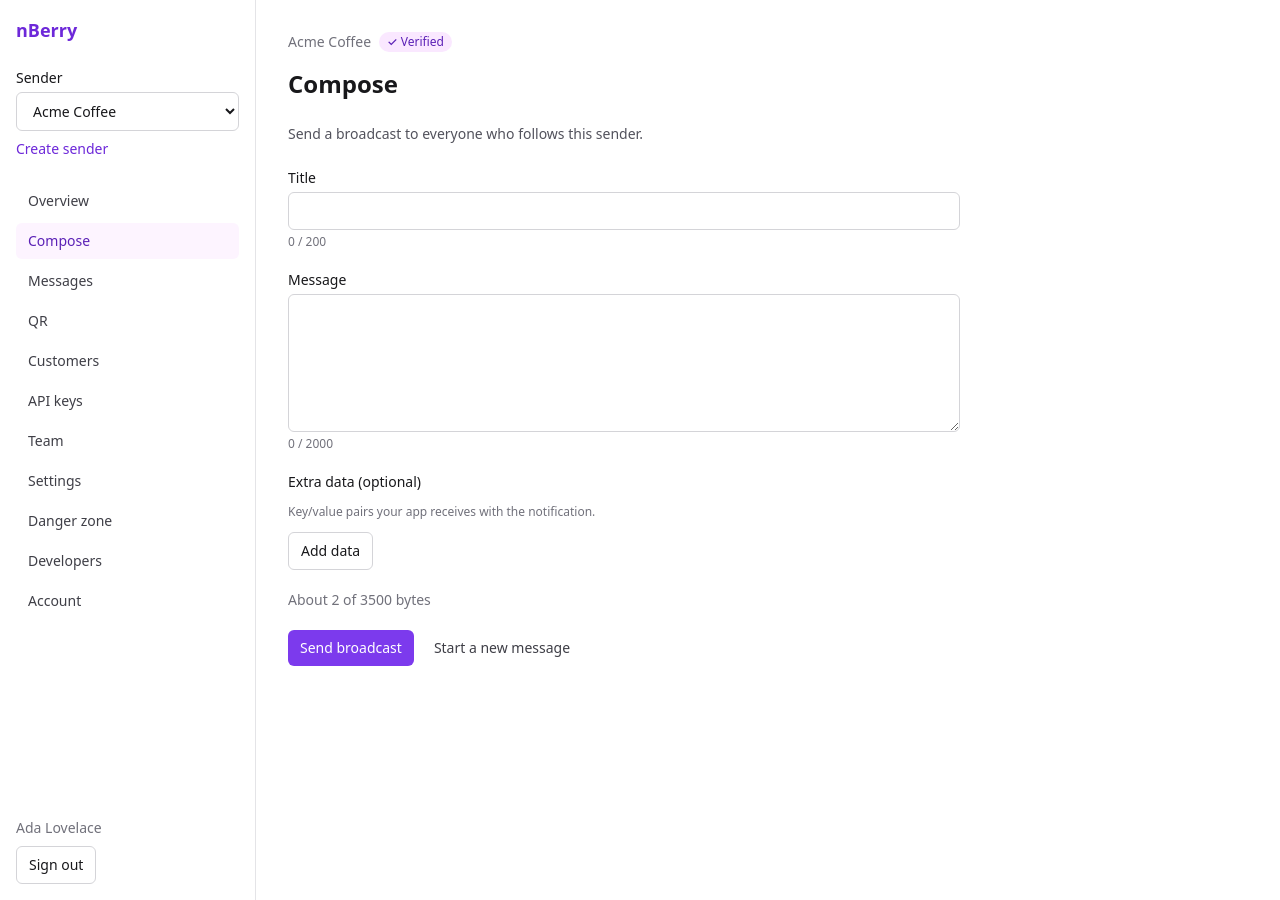
compose sending › double-click Send posts once while pending
Type "Hello" into the field labelled "Title" at (624, 211), box x1=288 y1=192 x2=960 y2=230
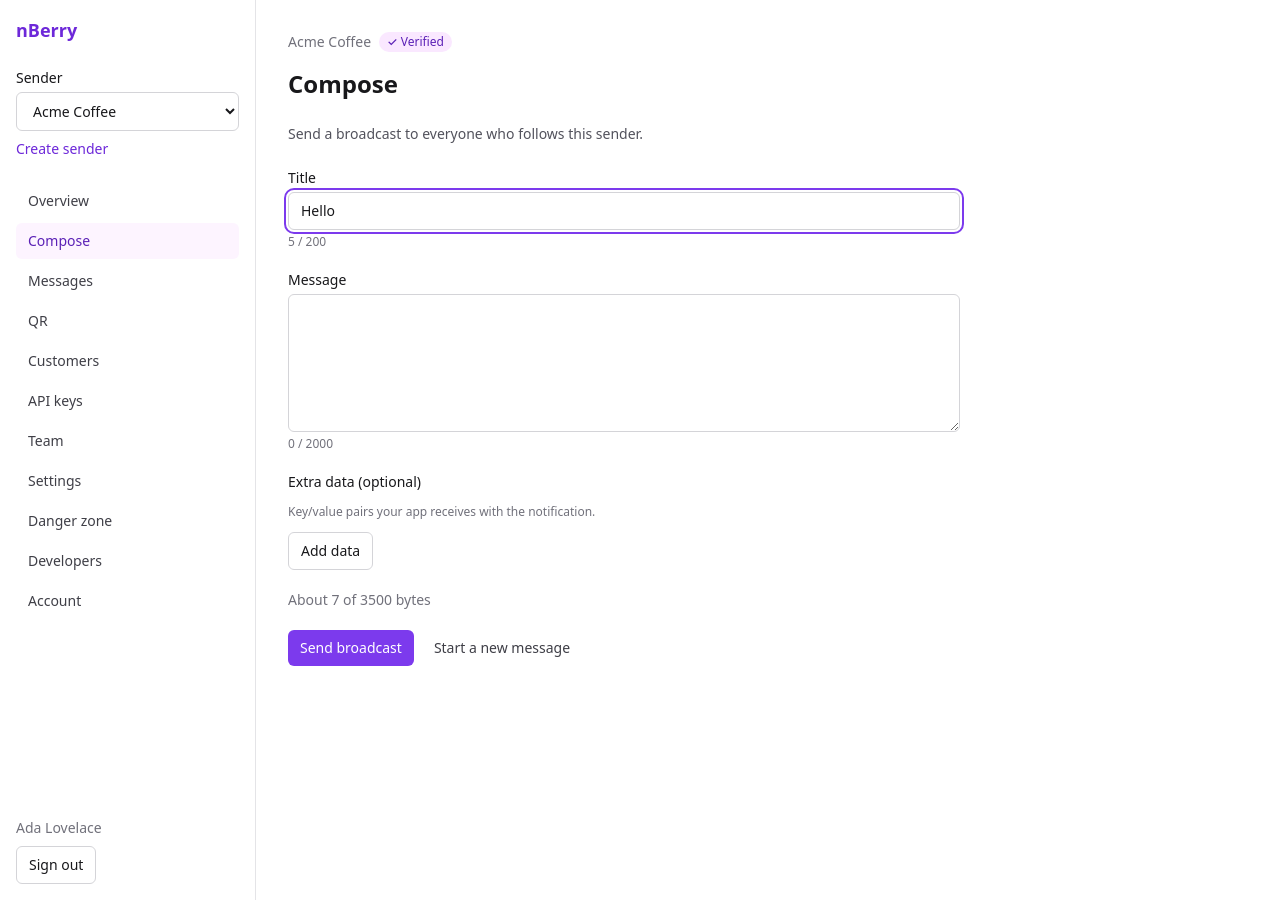
Type "World" into the text box labelled "Message" at (624, 363), box x1=288 y1=294 x2=960 y2=432
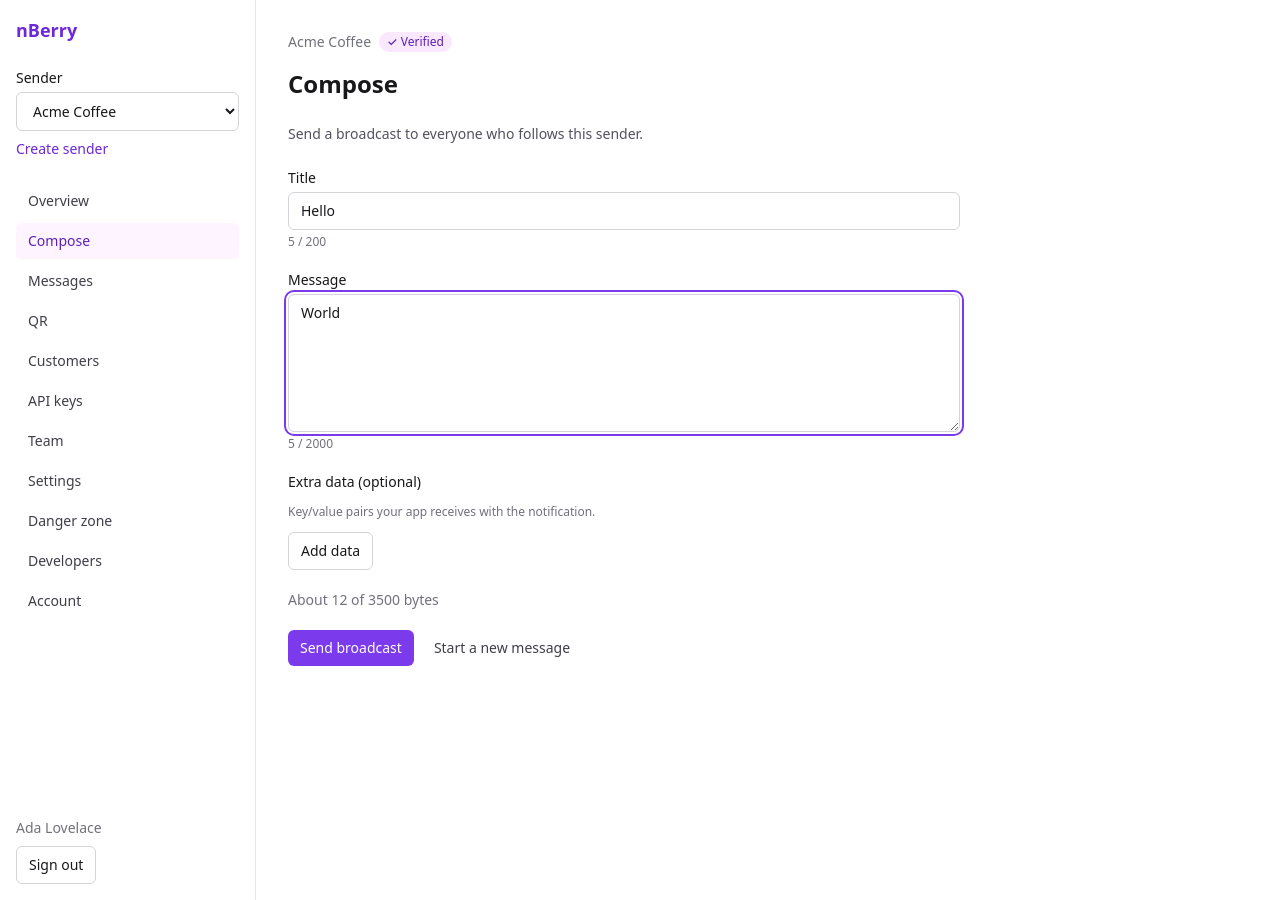
Double-click the button "Send broadcast" at (351, 648), box x1=288 y1=630 x2=414 y2=666
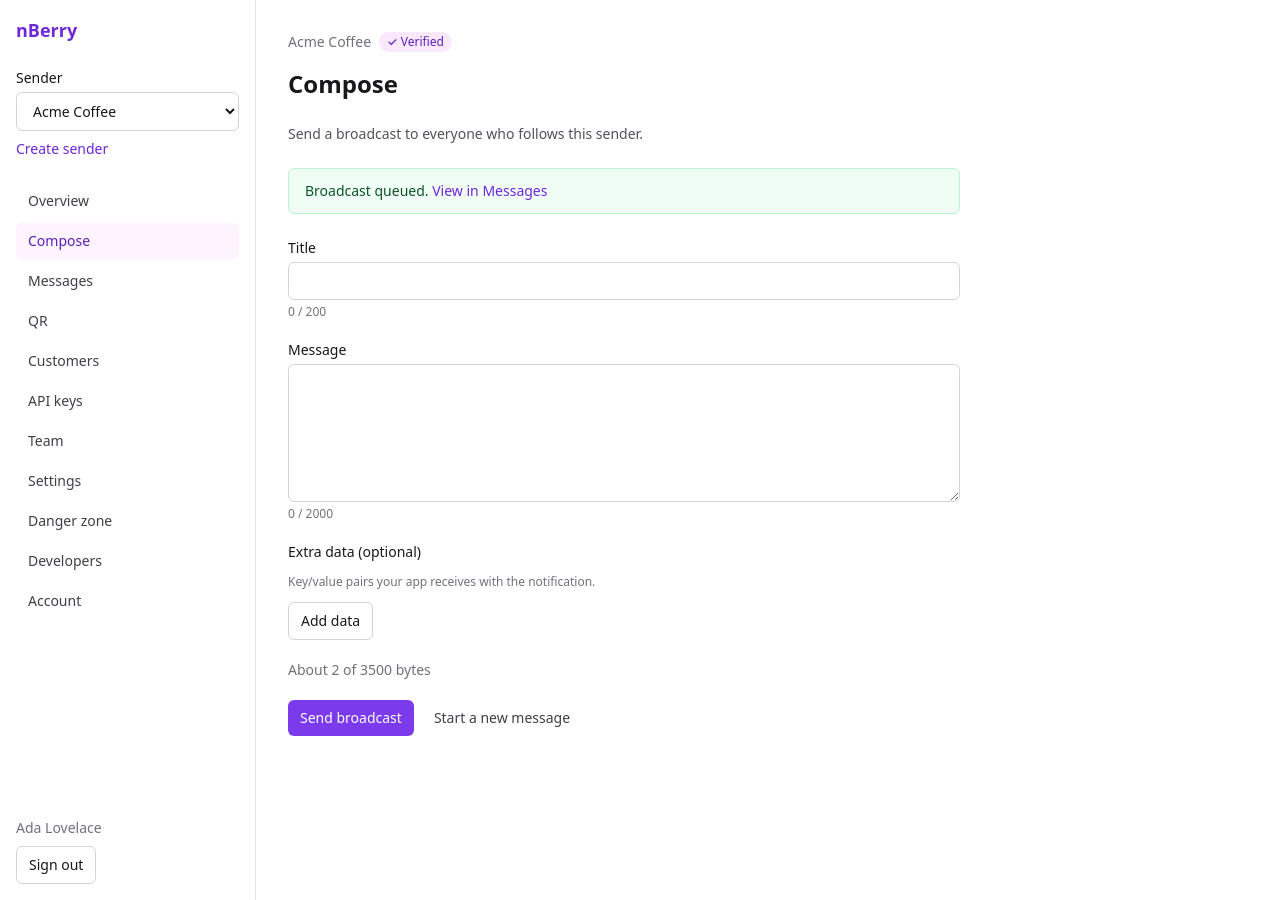
expect the text "Broadcast queued. View in Messages" is shown: met, box x1=288 y1=168 x2=960 y2=214
